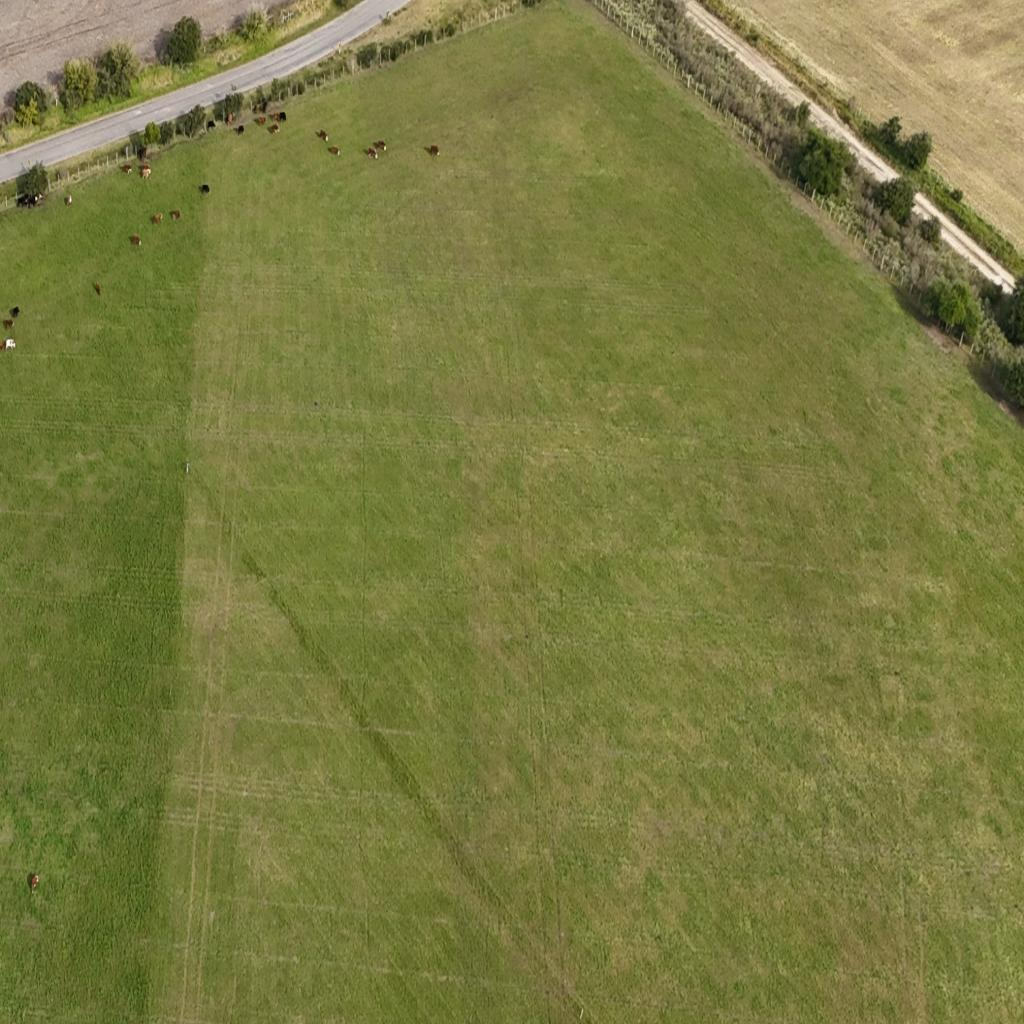cow: (374, 138, 388, 151), (429, 144, 441, 158), (140, 165, 151, 180), (316, 129, 328, 142), (268, 122, 280, 135), (367, 148, 378, 162), (47, 185, 57, 200), (129, 234, 141, 246), (151, 213, 163, 225), (2, 318, 14, 330), (278, 110, 289, 123), (6, 338, 16, 352), (16, 196, 27, 208), (27, 197, 37, 210), (225, 112, 235, 125), (270, 110, 280, 122), (254, 116, 266, 126), (170, 209, 180, 221), (206, 119, 216, 131), (122, 164, 132, 176), (10, 306, 20, 318), (93, 282, 101, 296), (140, 146, 148, 160), (328, 146, 339, 156), (290, 102, 298, 115), (200, 184, 210, 194), (262, 101, 269, 115), (219, 112, 227, 124), (236, 125, 244, 136), (65, 194, 72, 206), (56, 170, 61, 182)
